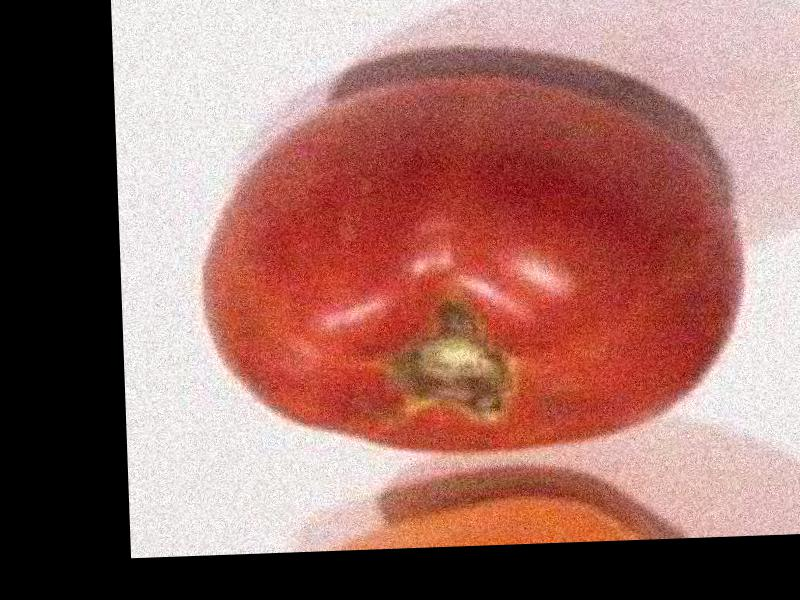Tomato: (195, 71, 744, 459)
